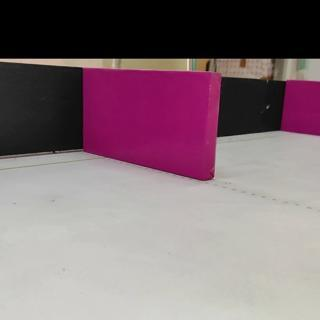xparking: (85, 72, 215, 169), (287, 81, 318, 133)
